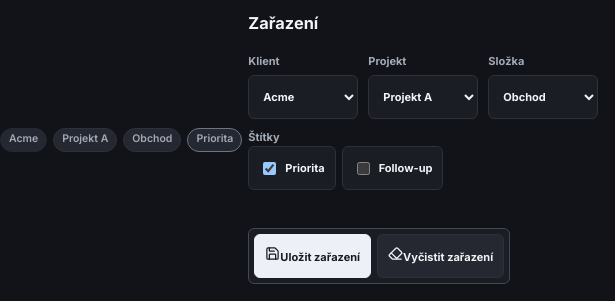
Scenario: RecordingOrganizationEditor › settles a preview transport failure without saving or losing draft
Click the button "Uložit zařazení" at (313, 256), box [254, 234, 371, 278]
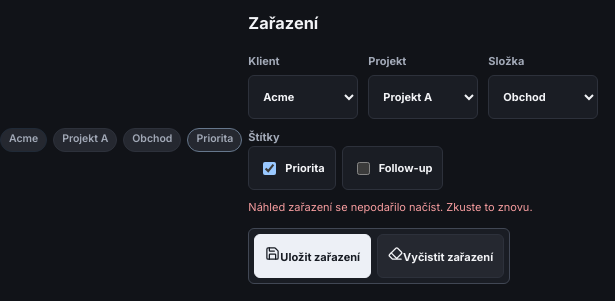
Expected: the dropdown named "clientId" shows "Acme", [248, 75, 358, 119]
Now the message "Náhled zařazení se nepodařilo načíst. Zkuste to znovu." is shown, box [248, 200, 532, 214]
